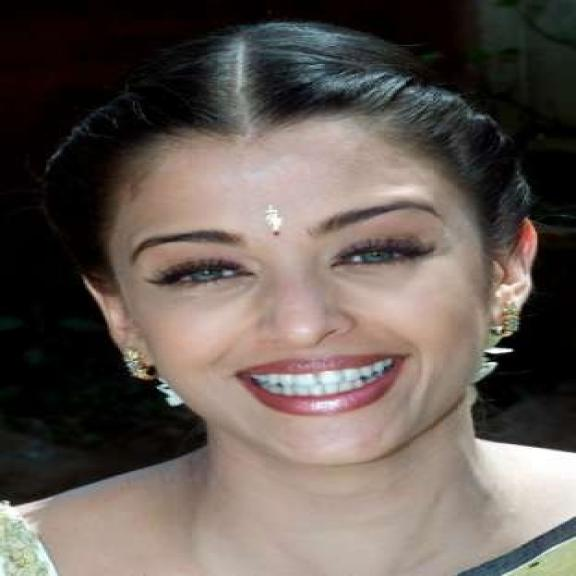face: (84, 124, 546, 468)
